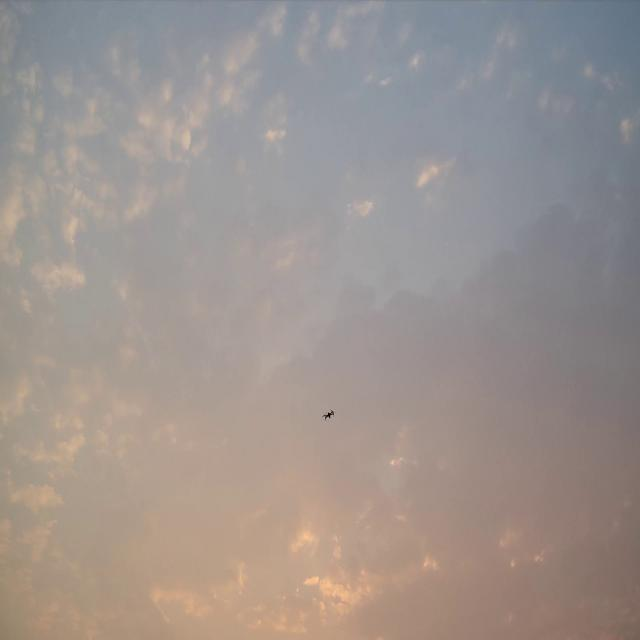drone: (322, 408, 335, 421)
